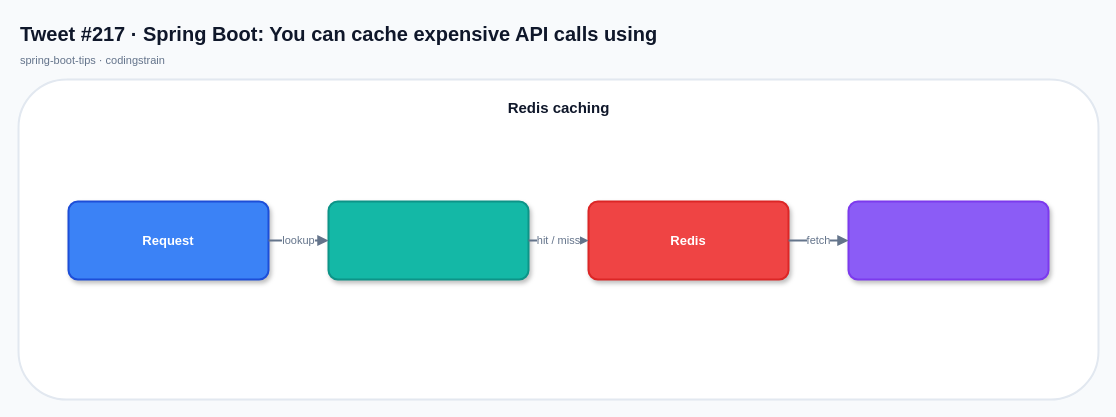
The diagram is 1116 pixels wide and 417 high, and some of its shapes have lost their labels. The shapes that lost their labels are listed below. From the top down, each one's centre as x and y in pixels, then its label:
At point (429, 241): "@Cacheable".
At point (949, 241): "External API".
